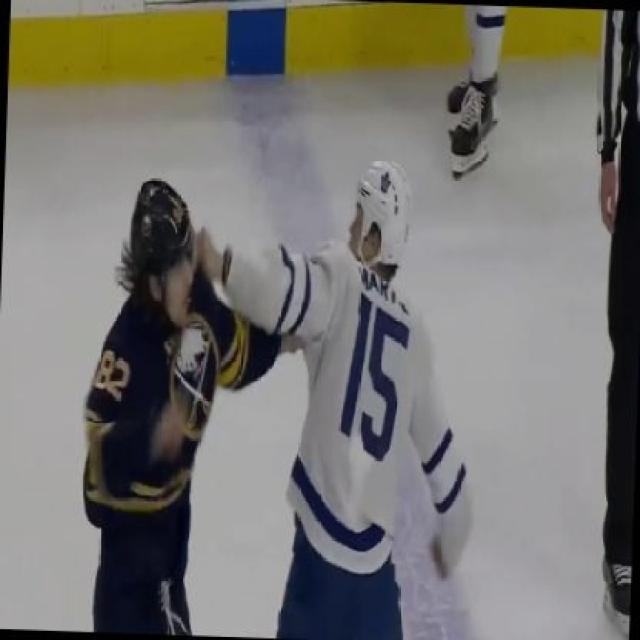fight: (77, 160, 481, 638)
